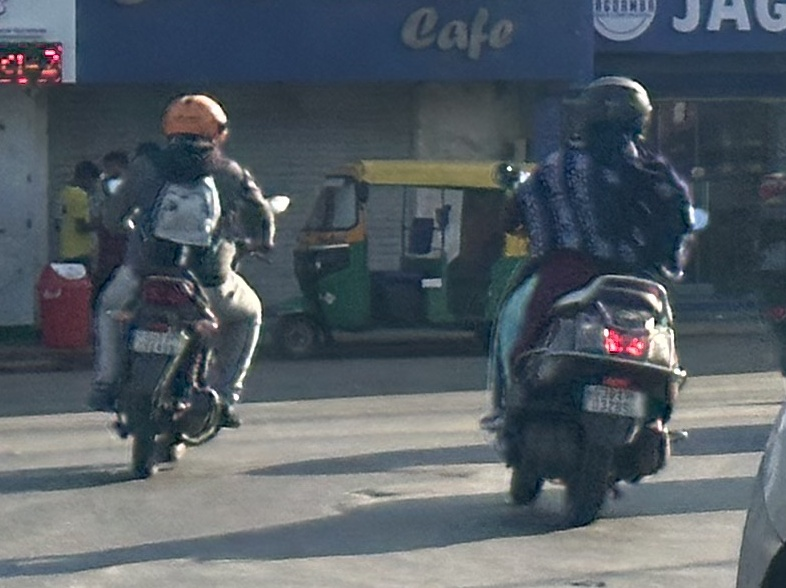BikeWithRider: (471, 64, 713, 530), (77, 80, 296, 486)
Helmet: (564, 69, 661, 146), (150, 87, 237, 155)
